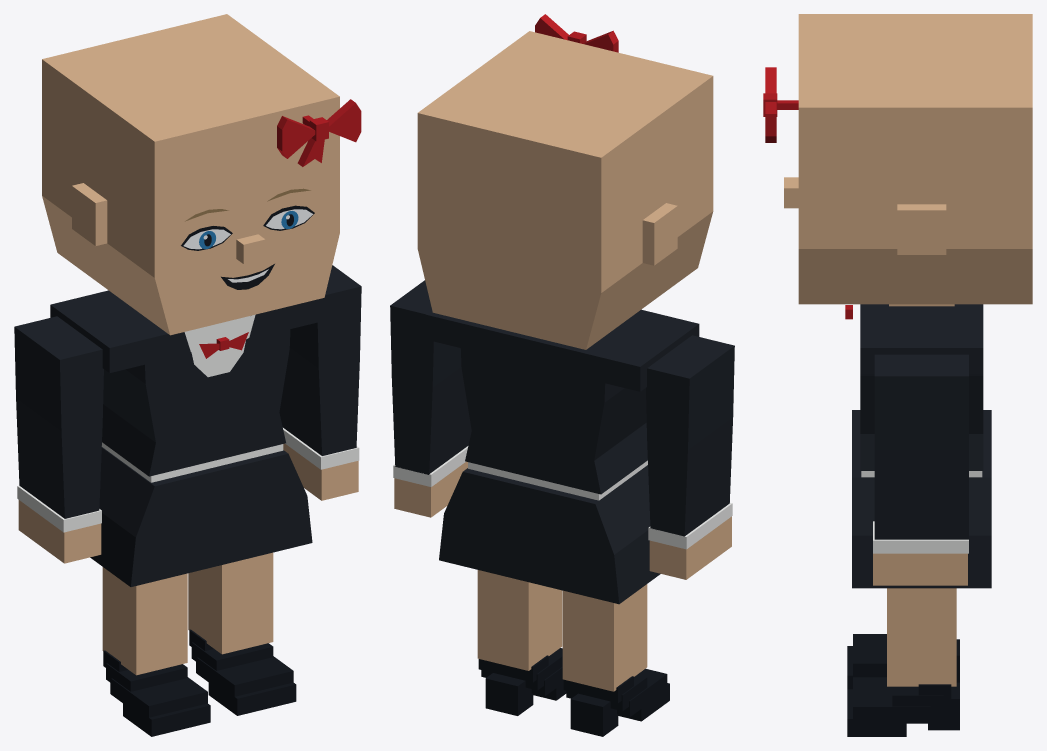
Rendered from female_bald.glb.
The picture shows the model from 3 angles, left to right: view 1: azimuth 30°, elevation 25°; view 2: azimuth 150°, elevation 25°; view 3: azimuth 270°, elevation 25°; orthographic projection. The views are drawn at different scales.
Visible parts, largest first — view 1: char_head_visual, char_torso_visual, char_arm_negx_visual, char_leg_negx_visual, char_leg_posx_visual, char_arm_posx_visual, char_bow_visual, char_hand_negx_visual, char_hand_posx_visual, char_eye_negx_visual, char_eye_posx_visual, char_mouth_visual; view 2: char_head_visual, char_torso_visual, char_arm_negx_visual, char_arm_posx_visual, char_leg_negx_visual, char_leg_posx_visual, char_hand_negx_visual, char_hand_posx_visual, char_bow_visual; view 3: char_head_visual, char_arm_posx_visual, char_torso_visual, char_leg_posx_visual, char_hand_posx_visual, char_leg_negx_visual, char_bow_visual.
Part boxes in pixels (x1=…): char_head_visual: x1=42, y1=14, x2=339, y2=335; char_torso_visual: x1=50, y1=290, x2=325, y2=586; char_arm_negx_visual: x1=14, y1=316, x2=103, y2=532; char_leg_negx_visual: x1=102, y1=567, x2=210, y2=736; char_leg_posx_visual: x1=188, y1=552, x2=296, y2=715; char_arm_posx_visual: x1=279, y1=265, x2=361, y2=469; char_bow_visual: x1=277, y1=99, x2=361, y2=166; char_hand_negx_visual: x1=18, y1=500, x2=101, y2=563; char_hand_posx_visual: x1=283, y1=443, x2=358, y2=500; char_eye_negx_visual: x1=181, y1=226, x2=232, y2=250; char_eye_posx_visual: x1=263, y1=205, x2=314, y2=230; char_mouth_visual: x1=221, y1=264, x2=274, y2=289; char_head_visual: x1=417, y1=31, x2=713, y2=349; char_torso_visual: x1=425, y1=309, x2=699, y2=604; char_arm_negx_visual: x1=646, y1=335, x2=734, y2=549; char_arm_posx_visual: x1=390, y1=280, x2=471, y2=486; char_leg_negx_visual: x1=562, y1=584, x2=669, y2=736; char_leg_posx_visual: x1=477, y1=570, x2=566, y2=715; char_hand_negx_visual: x1=649, y1=516, x2=731, y2=579; char_hand_posx_visual: x1=394, y1=461, x2=467, y2=517; char_bow_visual: x1=535, y1=14, x2=618, y2=52; char_head_visual: x1=784, y1=14, x2=1032, y2=306; char_arm_posx_visual: x1=873, y1=354, x2=968, y2=553; char_torso_visual: x1=845, y1=304, x2=991, y2=588; char_leg_posx_visual: x1=847, y1=588, x2=959, y2=736; char_hand_posx_visual: x1=873, y1=553, x2=967, y2=585; char_leg_negx_visual: x1=847, y1=634, x2=959, y2=689; char_bow_visual: x1=763, y1=67, x2=798, y2=142.
Bounding box in the file's own units: 0.88 × 1.74 × 0.656.
